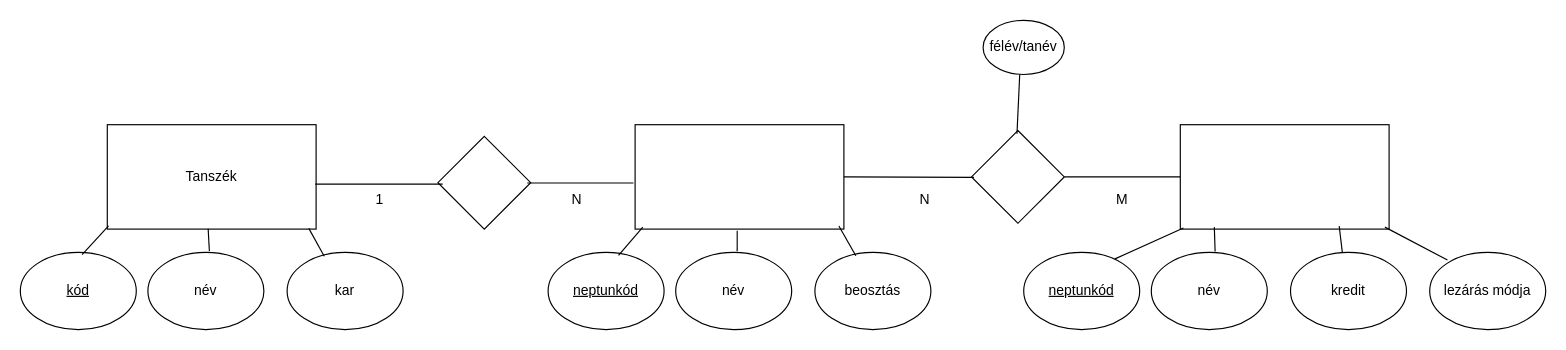
Some shapes in this 1566 by 350 pixel diagram are drawn without their labels. Each missing label, with the centre of its shape:
"Oktatja" belongs at [1017,176].
"Oktató" belongs at [739,176].
"Tantárgy" belongs at [1284,176].
"Tartozik" belongs at [484,182].
